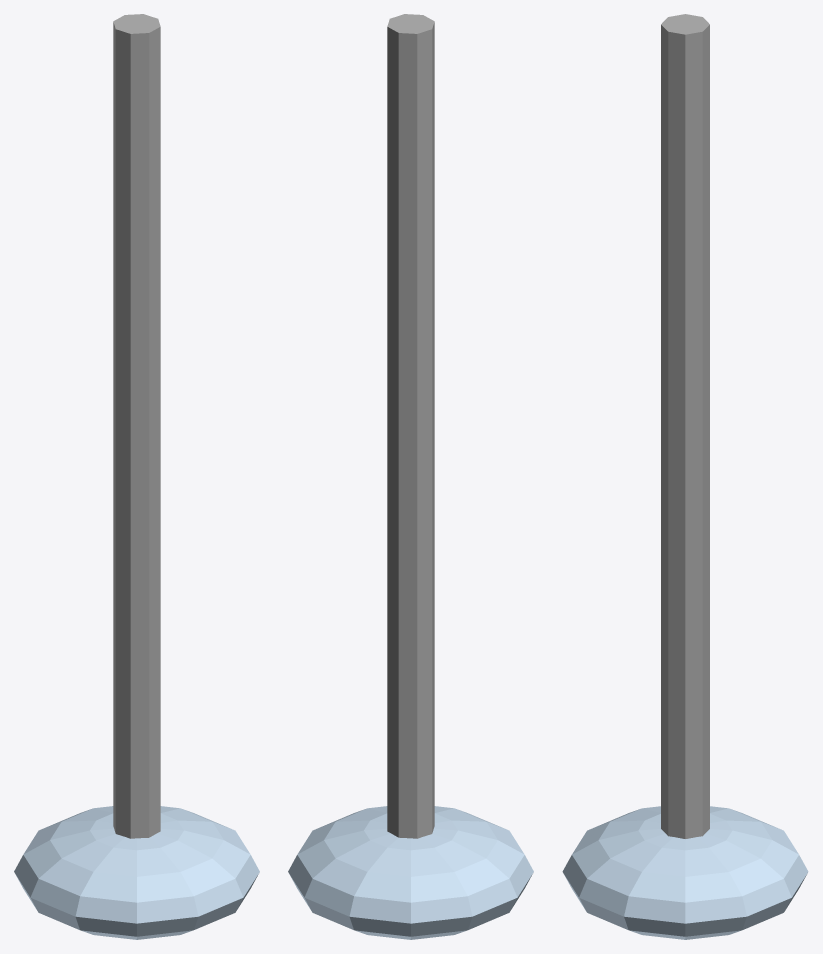
Rendered from gutter_splash.glb.
3 views of the same model, side by side, from view 1: azimuth 30°, elevation 25°; view 2: azimuth 150°, elevation 25°; view 3: azimuth 270°, elevation 25° (orthographic).
Parts seen in each view (by area): view 1: downspout, splash; view 2: downspout, splash; view 3: downspout, splash.
Boxes of the visible parts, box(x1,y1,x2,y2) form: downspout: box(113, 14, 160, 838); splash: box(14, 806, 259, 939); downspout: box(387, 14, 434, 838); splash: box(288, 806, 533, 939); downspout: box(661, 14, 709, 838); splash: box(562, 806, 808, 939).
Bounding box in the file's own units: 0.5 × 2 × 0.5.
